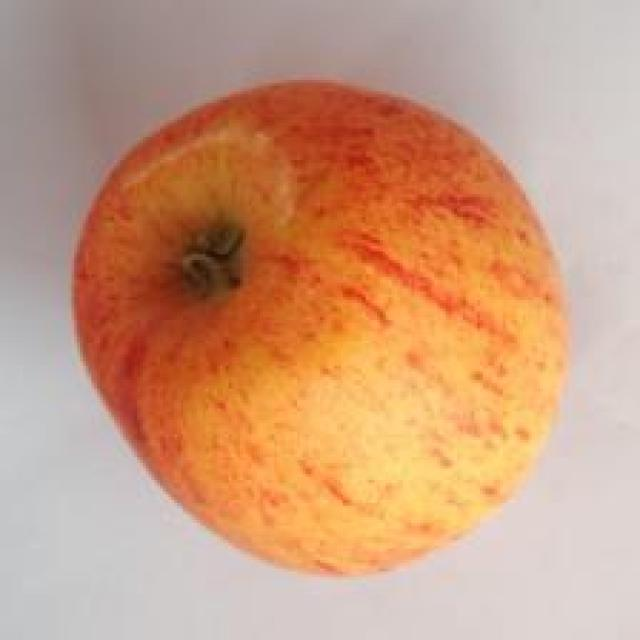apple: (48, 57, 604, 602)
